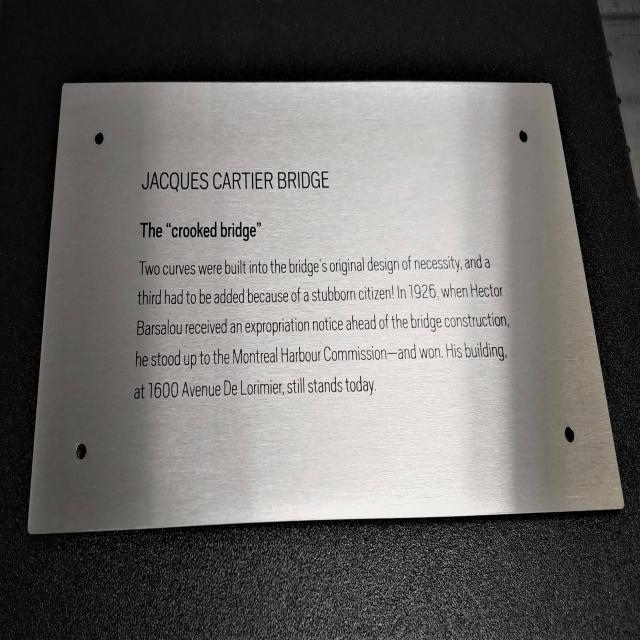ocr: (129, 160, 507, 428)
